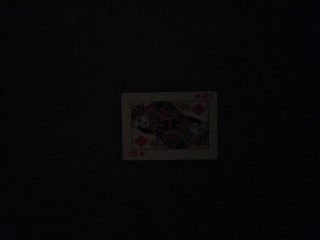QueenOfDiamonds: (121, 92, 218, 159)
